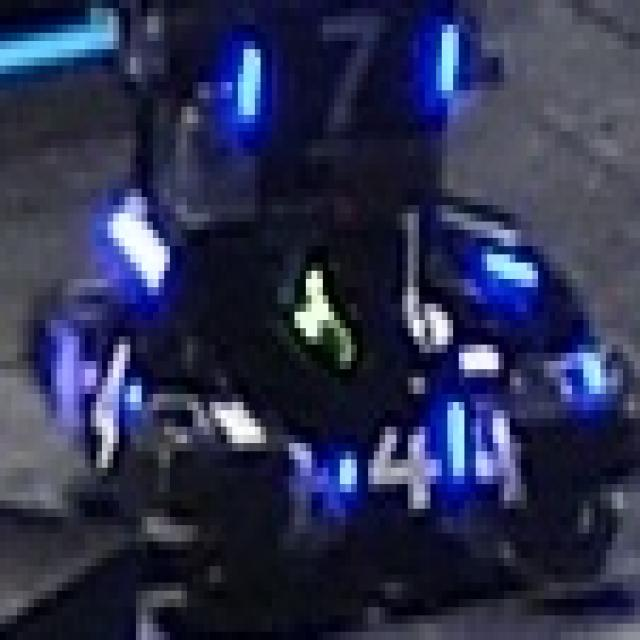B4: (340, 386, 498, 508), (57, 320, 164, 468)
